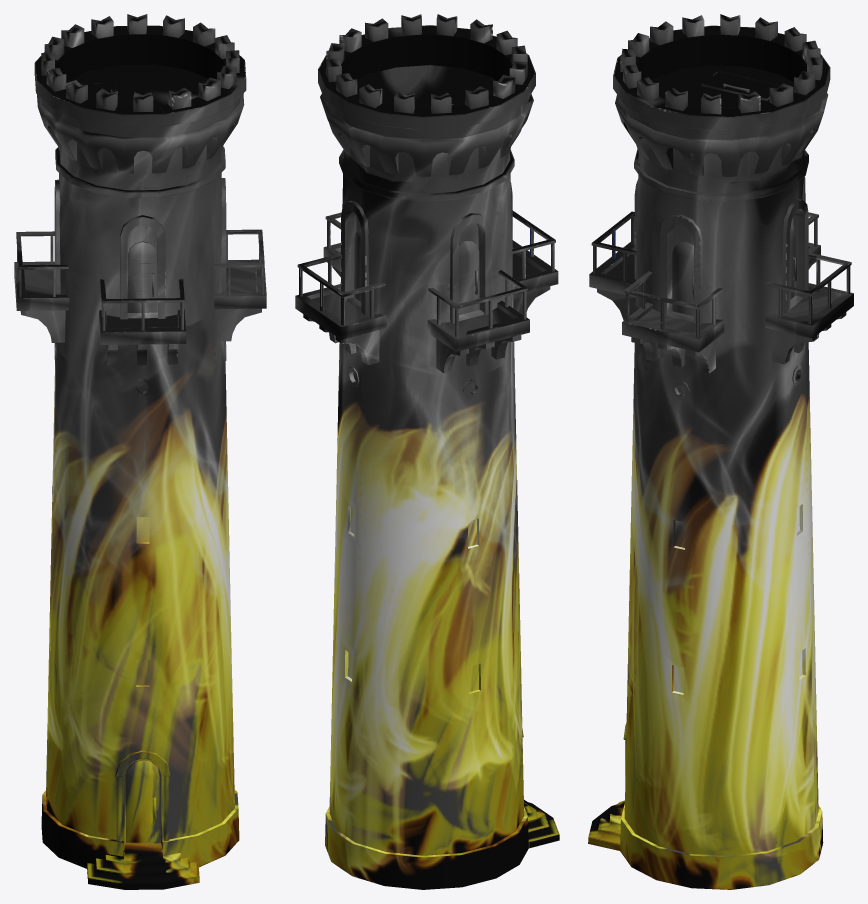
The model's file is Fire.glb.
3 views of the same model, side by side, from view 1: azimuth 30°, elevation 25°; view 2: azimuth 150°, elevation 25°; view 3: azimuth 270°, elevation 25° (orthographic).
Visible parts, largest first — view 1: kickelhahn_tower; view 2: kickelhahn_tower; view 3: kickelhahn_tower.
Part boxes in pixels (bbox=[...]): kickelhahn_tower: bbox=[14, 14, 266, 889]; kickelhahn_tower: bbox=[295, 14, 559, 889]; kickelhahn_tower: bbox=[588, 14, 853, 889].
Size of the model in its own units: 7.29 by 24.03 by 7.33.
Materials: 1 (1 with a texture image).
